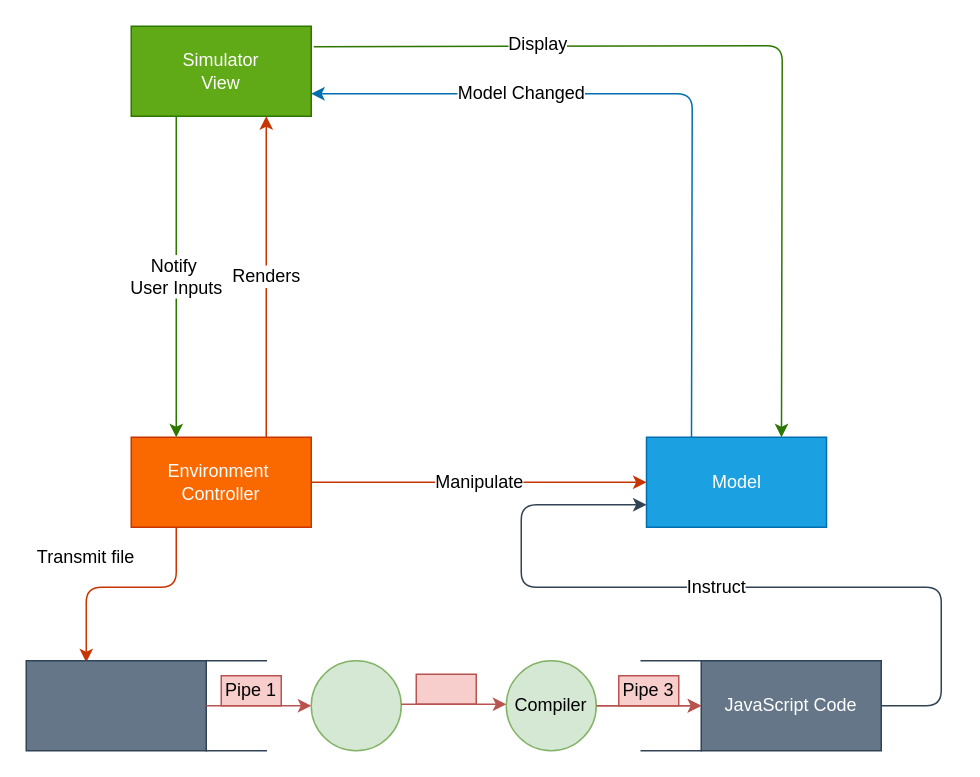
Some shapes in this 980 by 777 pixel diagram are drawn without their labels. Each missing label, with the centre of its shape:
"Integrity Filter" goes at (x=355, y=705).
"Interpreter" goes at (x=115, y=705).
"Pipe 2" goes at (x=445, y=688).
